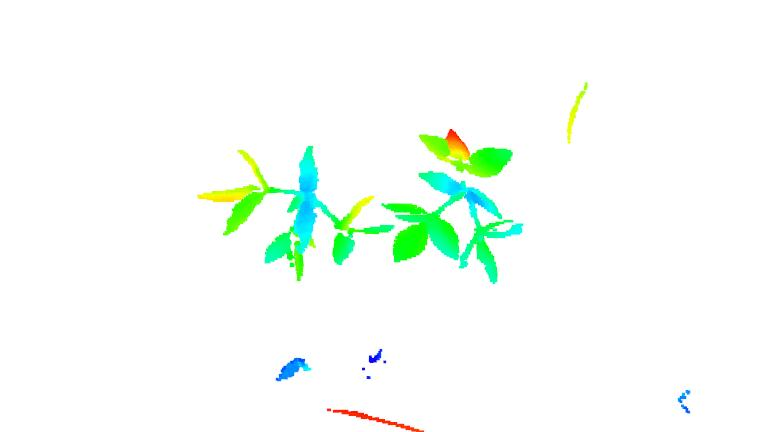mungbean: (184, 146, 394, 282), (396, 128, 531, 286)
